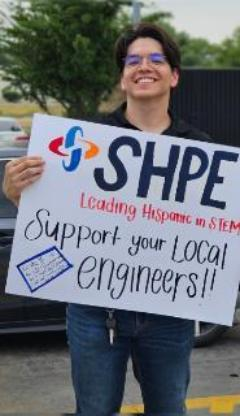person: (50, 19, 218, 416)
